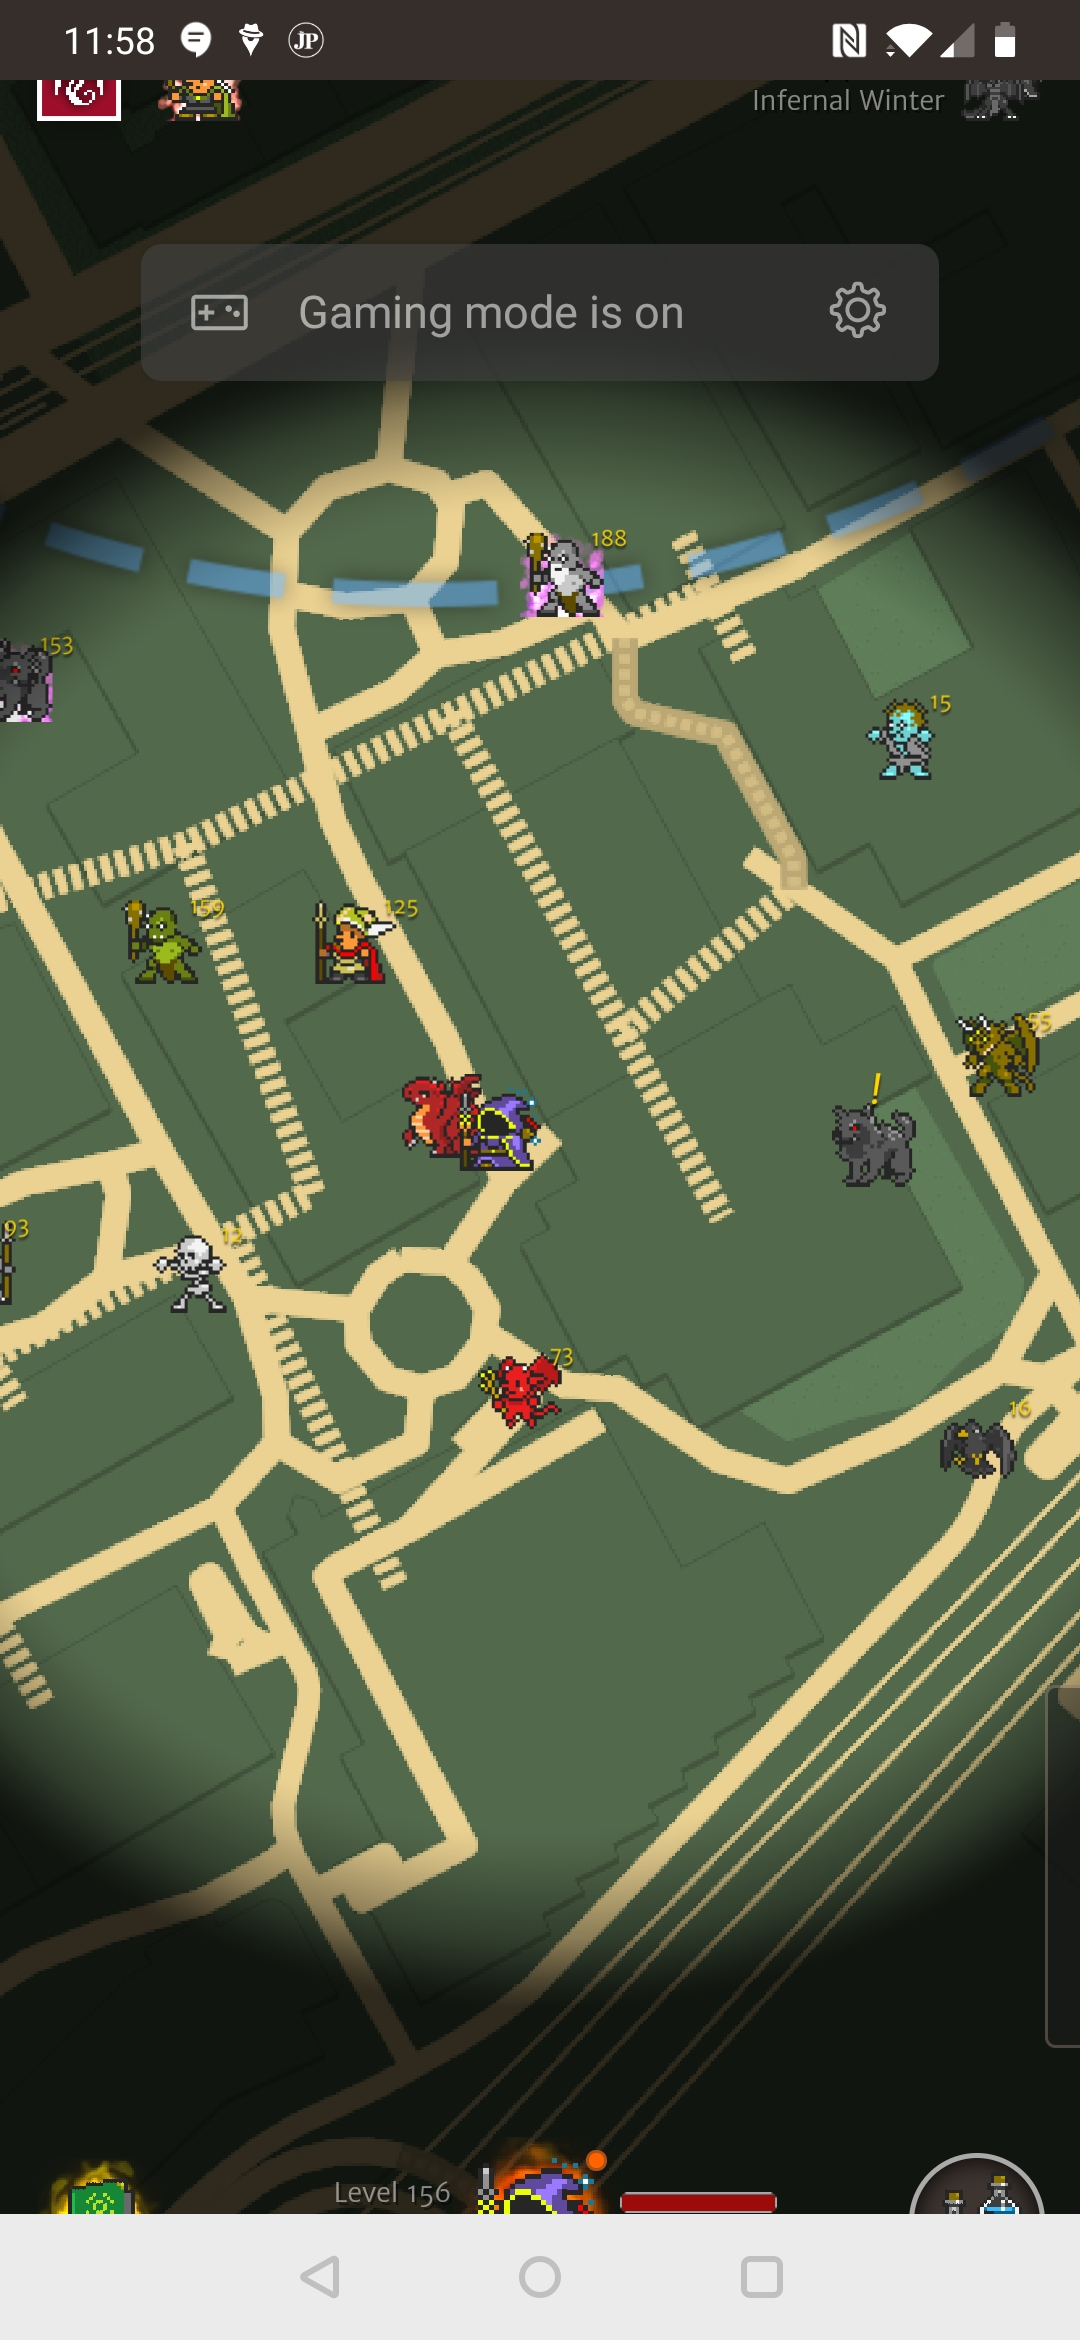monster: (929, 1385, 1060, 1530), (105, 882, 236, 1013), (295, 882, 415, 1002), (512, 520, 632, 637), (950, 1006, 1063, 1109), (860, 689, 960, 785), (153, 1230, 243, 1323), (839, 1092, 926, 1185), (470, 1354, 577, 1427)
player: (453, 1075, 550, 1185)
